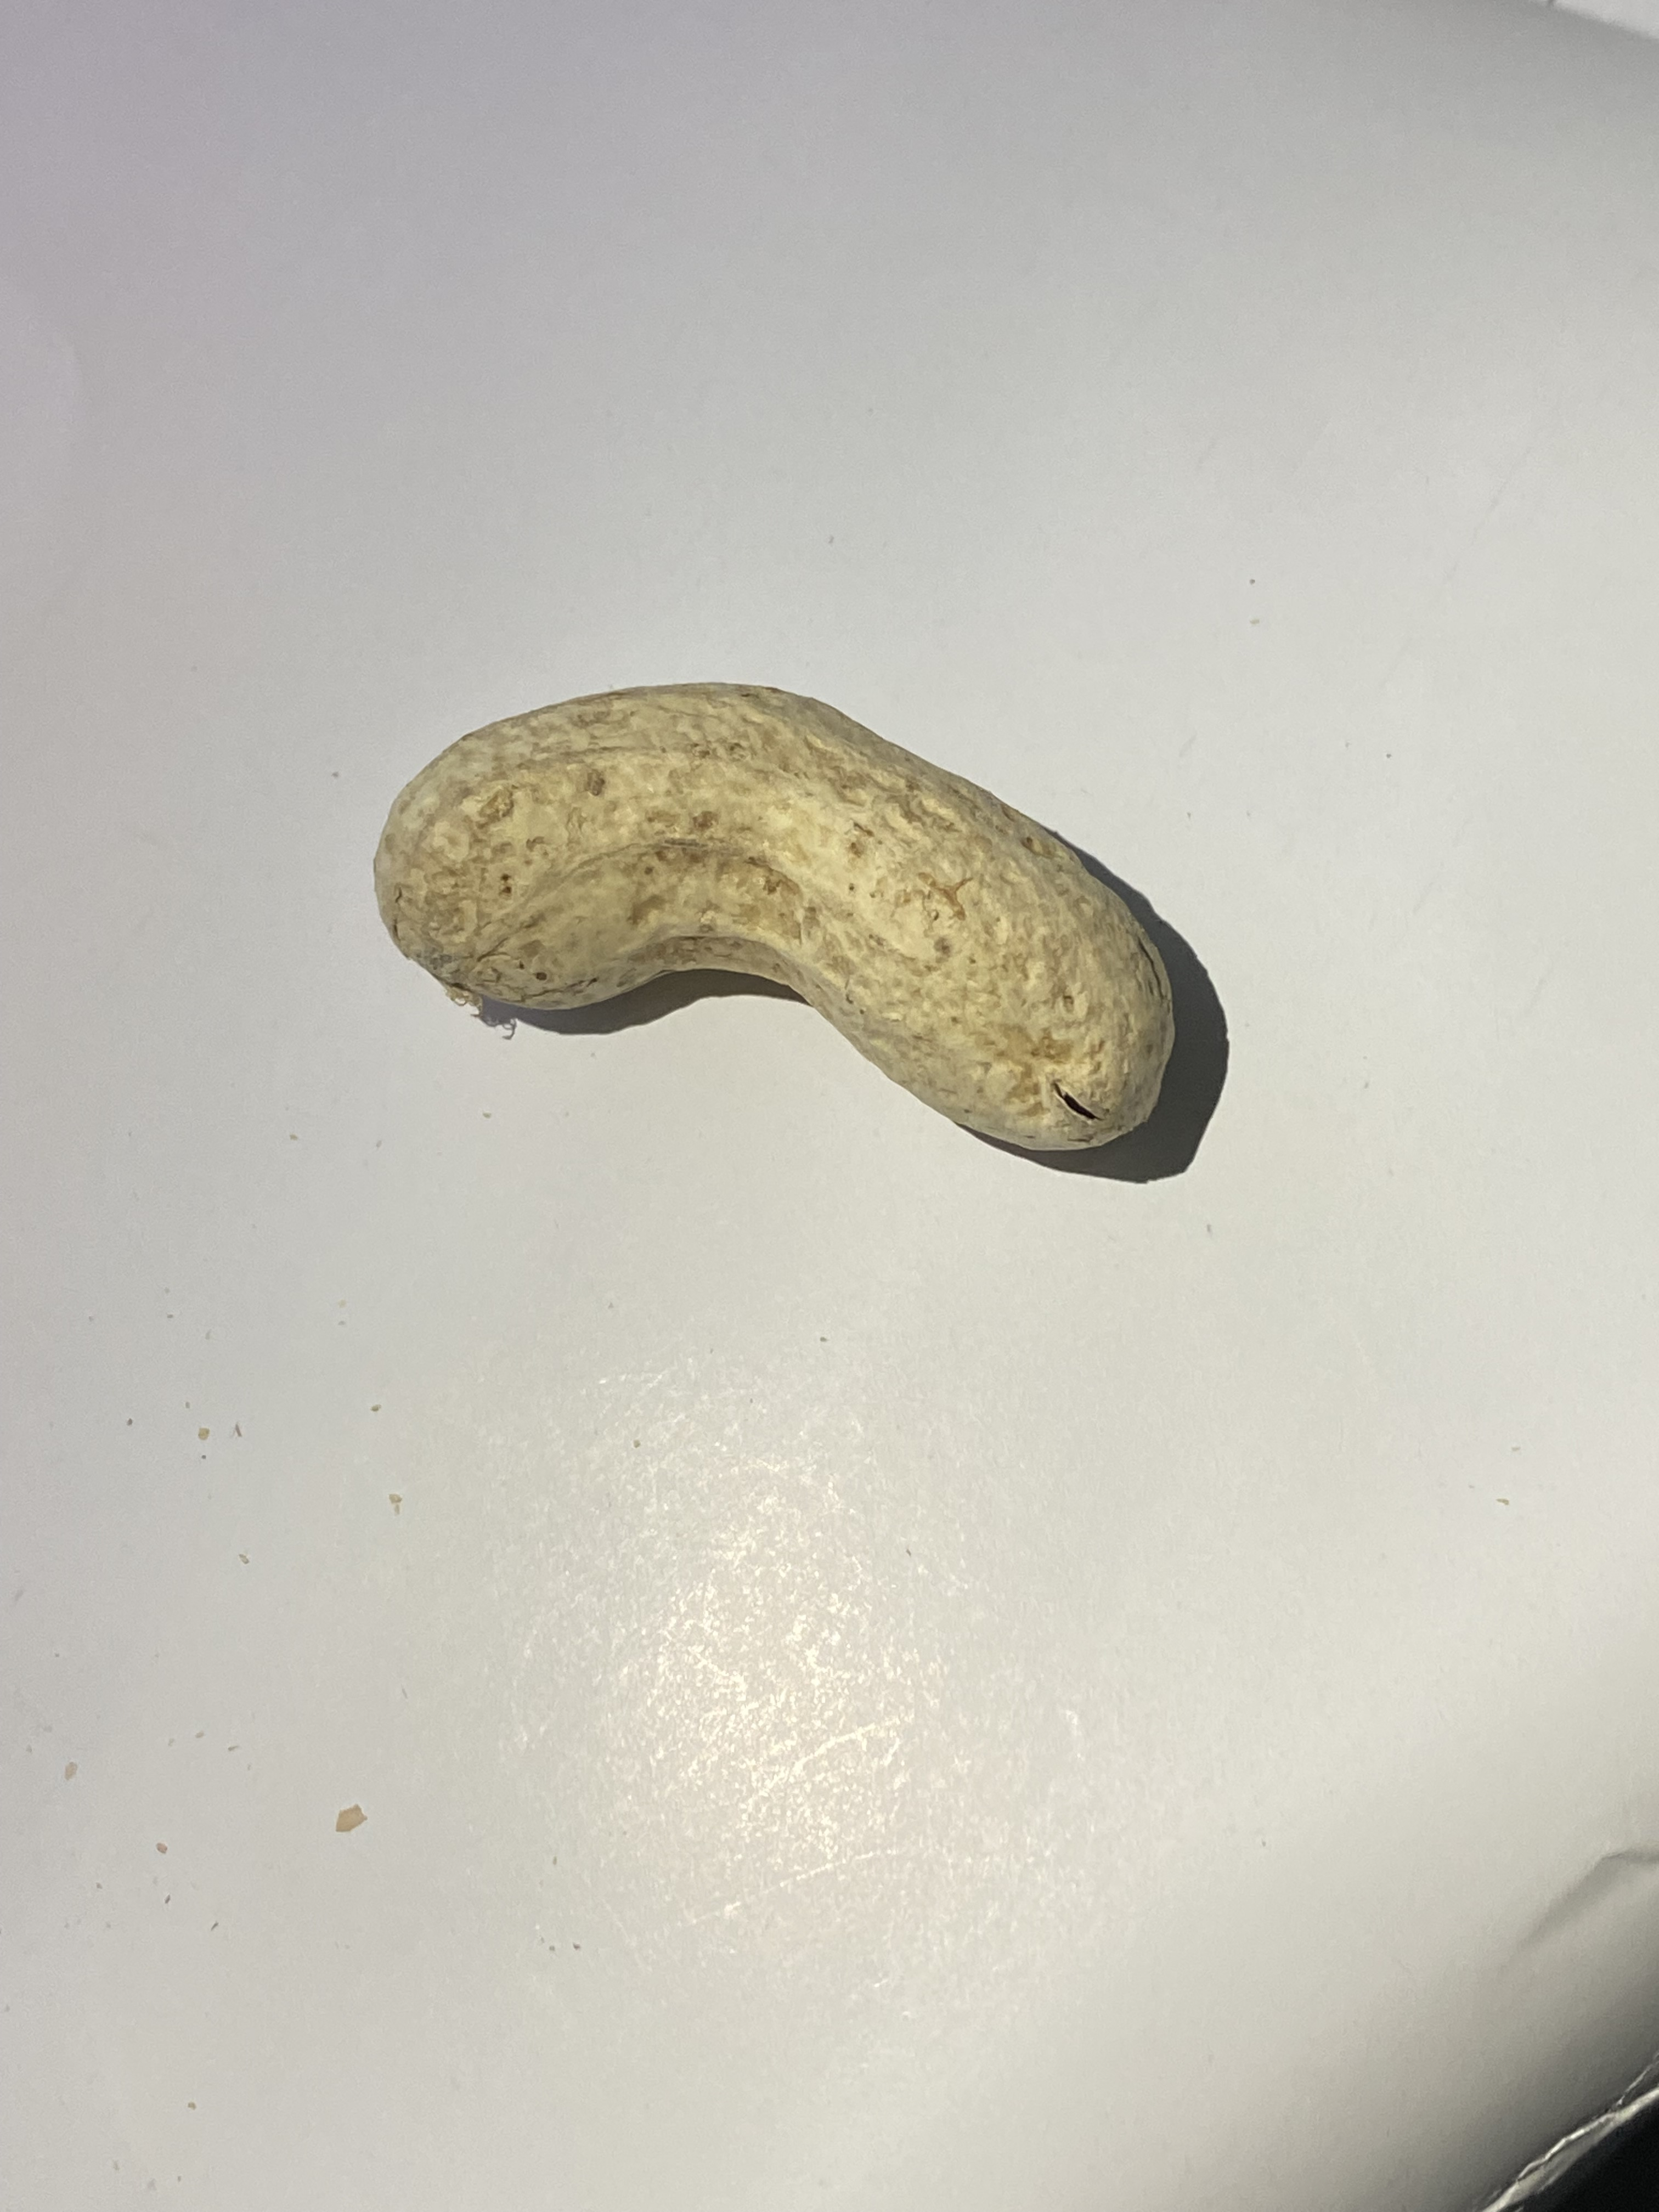kacang3: (364, 639, 1218, 1195)
